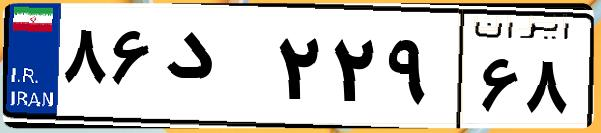2: (270, 28, 330, 110), (330, 28, 385, 110)
6: (475, 38, 525, 113), (110, 28, 158, 98)
8: (57, 26, 110, 100), (525, 38, 570, 115)
9: (385, 28, 445, 110)
د: (158, 20, 270, 120)
